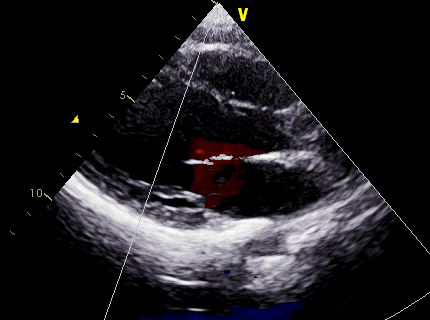AR: (189, 123, 291, 159)
